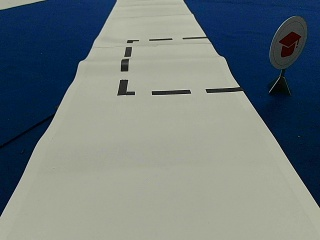school: (268, 16, 306, 68)
